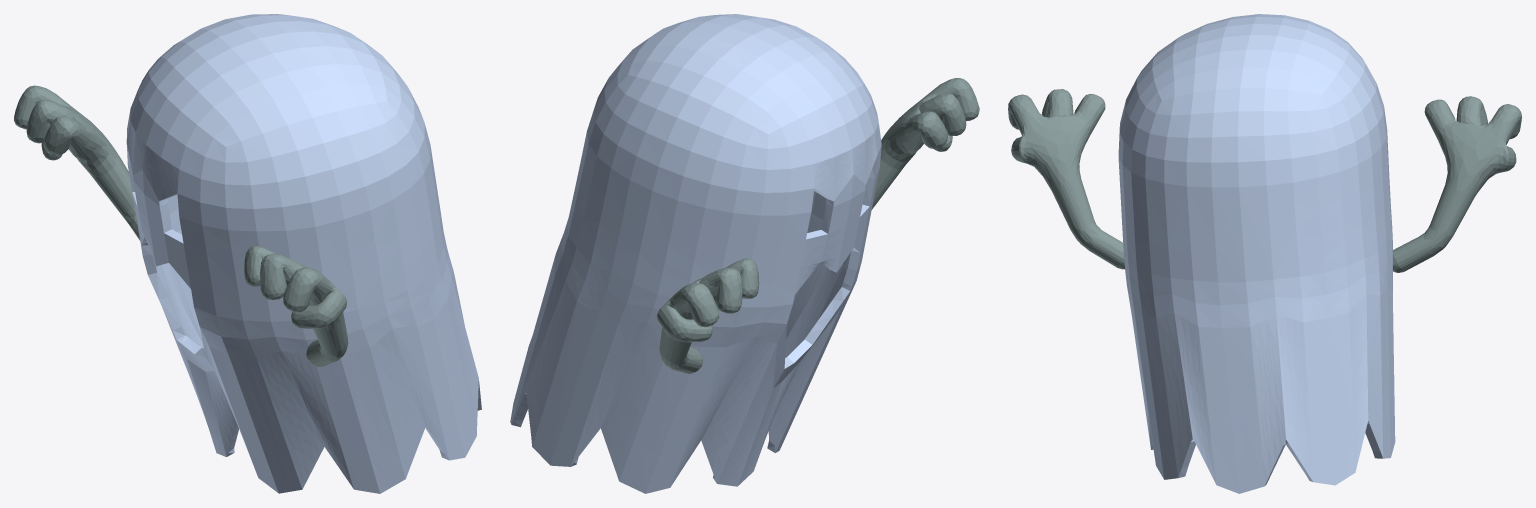
File: ghostM2.glb
The picture shows the model from 3 angles, left to right: view 1: azimuth 30°, elevation 25°; view 2: azimuth 150°, elevation 25°; view 3: azimuth 270°, elevation 25°; orthographic projection. The views are drawn at different scales.
Parts seen in each view (by area): view 1: gost, Hands; view 2: gost, Hands; view 3: gost, Hands.
Part boxes in pixels (x1,y1,x2,y2): gost: [126, 14, 481, 493]; Hands: [14, 85, 348, 366]; gost: [510, 14, 881, 493]; Hands: [657, 78, 979, 373]; gost: [1118, 14, 1395, 493]; Hands: [1008, 89, 1521, 272].
Bounding box in the file's own units: 0.1742 × 0.2253 × 0.2624.
